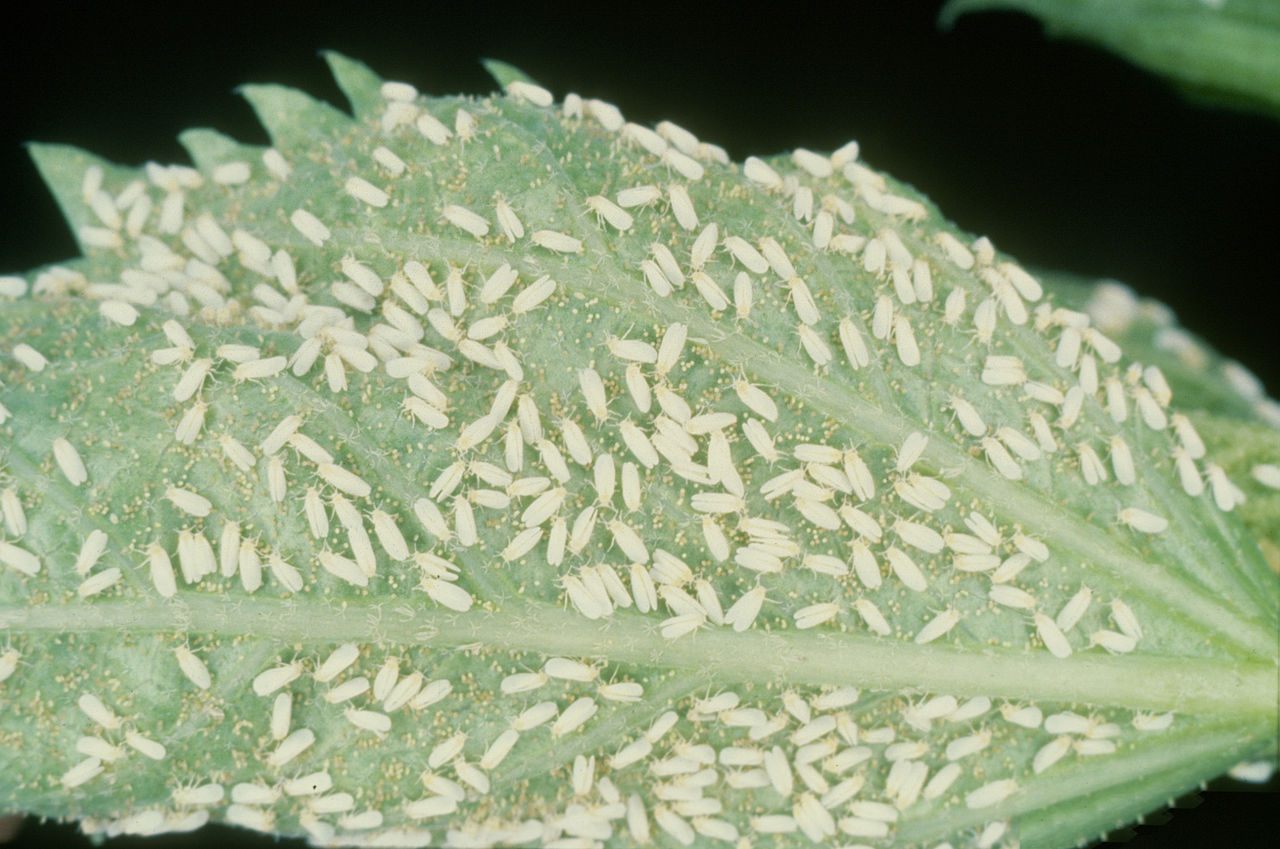Tobacco Whitefly: (166, 640, 242, 695), (284, 199, 355, 245), (731, 578, 782, 640), (587, 517, 652, 565), (836, 309, 876, 386), (912, 603, 972, 654), (427, 200, 490, 248), (393, 395, 453, 440), (569, 573, 638, 610), (655, 319, 687, 388), (372, 500, 410, 558), (218, 444, 270, 486), (517, 271, 560, 321), (48, 441, 96, 485), (579, 200, 634, 238), (693, 402, 759, 433), (789, 597, 842, 635), (852, 599, 898, 641), (715, 240, 777, 266), (900, 316, 925, 379), (894, 438, 918, 493), (359, 178, 397, 202), (921, 478, 952, 492)
